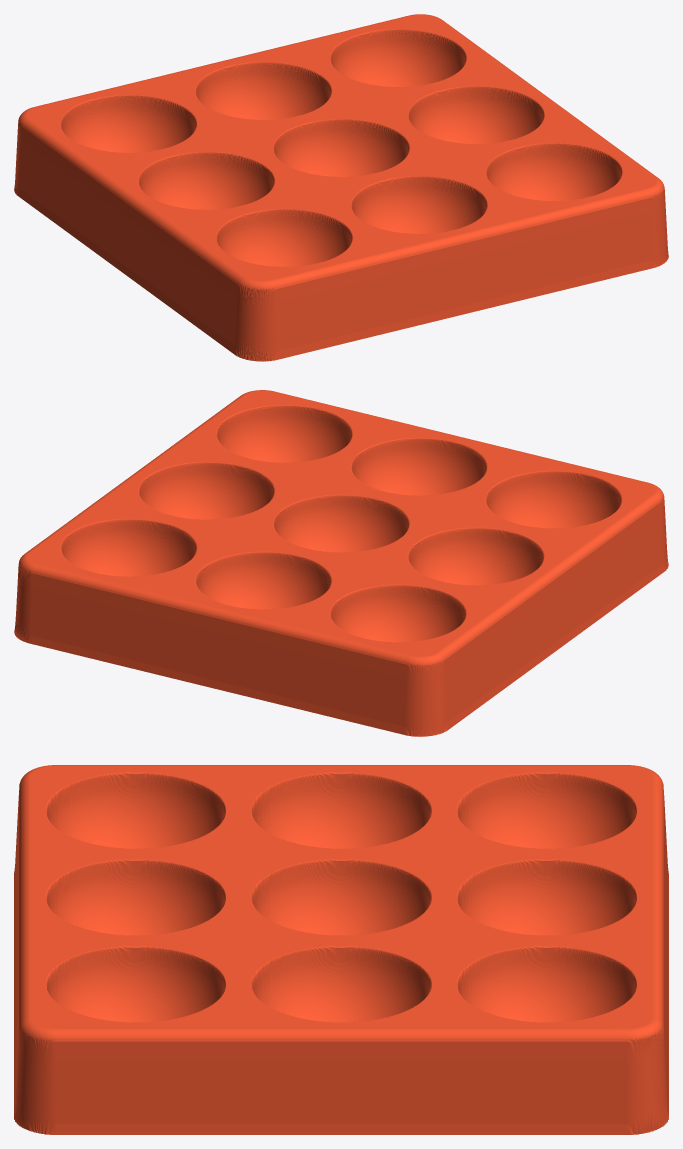
File: mold.glb
3 views of the same model, one above another, from view 1: azimuth 30°, elevation 25°; view 2: azimuth 150°, elevation 25°; view 3: azimuth 270°, elevation 25° (orthographic). The views are drawn at different scales.
Visible parts, largest first — view 1: geometry_0; view 2: geometry_0; view 3: geometry_0.
Part boxes in pixels (x1=…): geometry_0: x1=14, y1=14, x2=668, y2=361; geometry_0: x1=14, y1=390, x2=668, y2=736; geometry_0: x1=14, y1=765, x2=668, y2=1134.
Bounding box in the file's own units: 0.1409 × 0.0235 × 0.1409.
